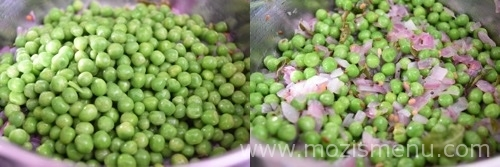boiled peas: (63, 5, 234, 142)
